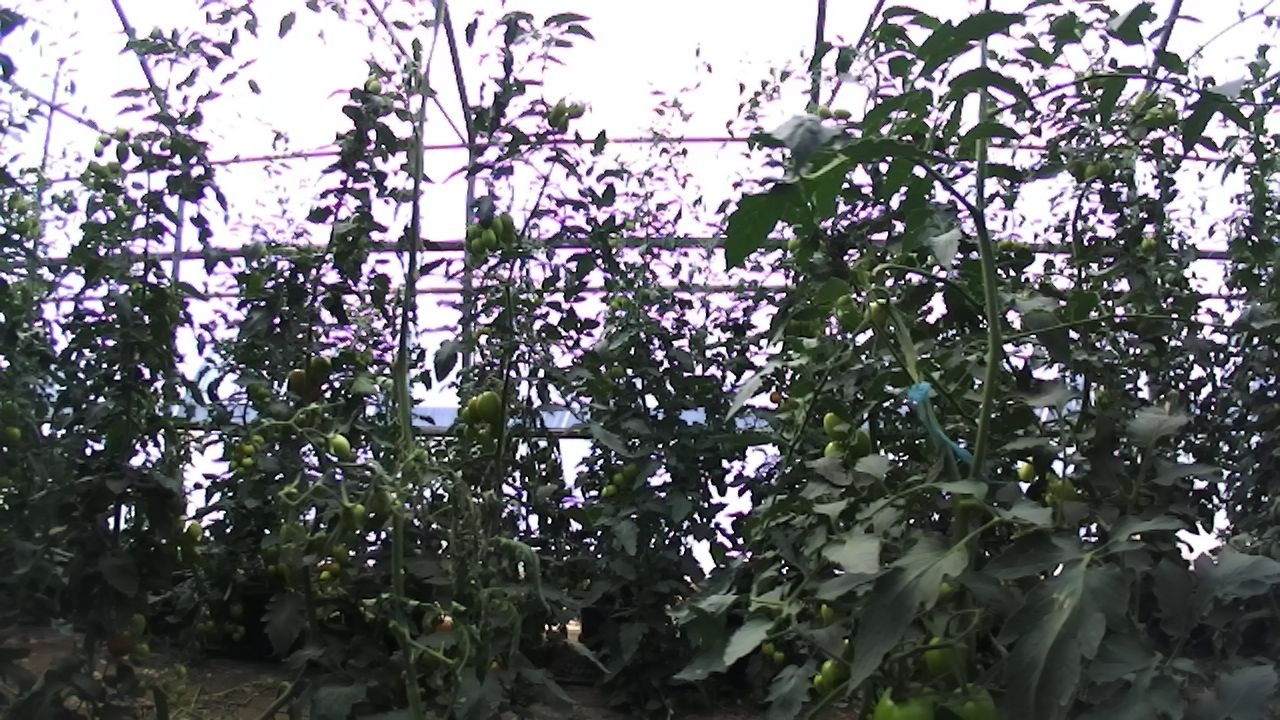tomato: (914, 623, 978, 685), (817, 402, 865, 449), (813, 654, 863, 696), (838, 422, 883, 465), (279, 362, 319, 409), (858, 288, 897, 334), (471, 383, 509, 427), (300, 347, 338, 390), (332, 495, 370, 535), (322, 427, 359, 465), (174, 512, 209, 546), (1136, 101, 1171, 134), (104, 627, 137, 659), (1014, 455, 1044, 487), (126, 638, 155, 671), (0, 418, 28, 452), (497, 210, 520, 245), (327, 540, 354, 569), (1157, 97, 1182, 128), (125, 609, 149, 641), (830, 102, 857, 126), (488, 213, 508, 243), (1079, 157, 1101, 184), (363, 75, 387, 99), (459, 419, 483, 443), (462, 221, 487, 244), (618, 459, 643, 482), (112, 140, 133, 167), (111, 122, 134, 146), (597, 479, 622, 501), (1092, 156, 1114, 180), (479, 226, 499, 252), (237, 438, 260, 460), (607, 468, 630, 489), (607, 361, 630, 382), (814, 102, 836, 123), (770, 646, 789, 669), (225, 600, 246, 620), (469, 235, 489, 256), (94, 129, 115, 149), (219, 616, 239, 636), (759, 637, 777, 658), (765, 387, 786, 405), (316, 566, 335, 585), (91, 137, 106, 161), (238, 453, 257, 471), (1138, 234, 1151, 254), (607, 298, 621, 312)
